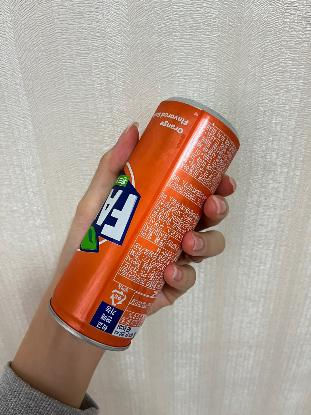Can: (46, 94, 245, 356)
